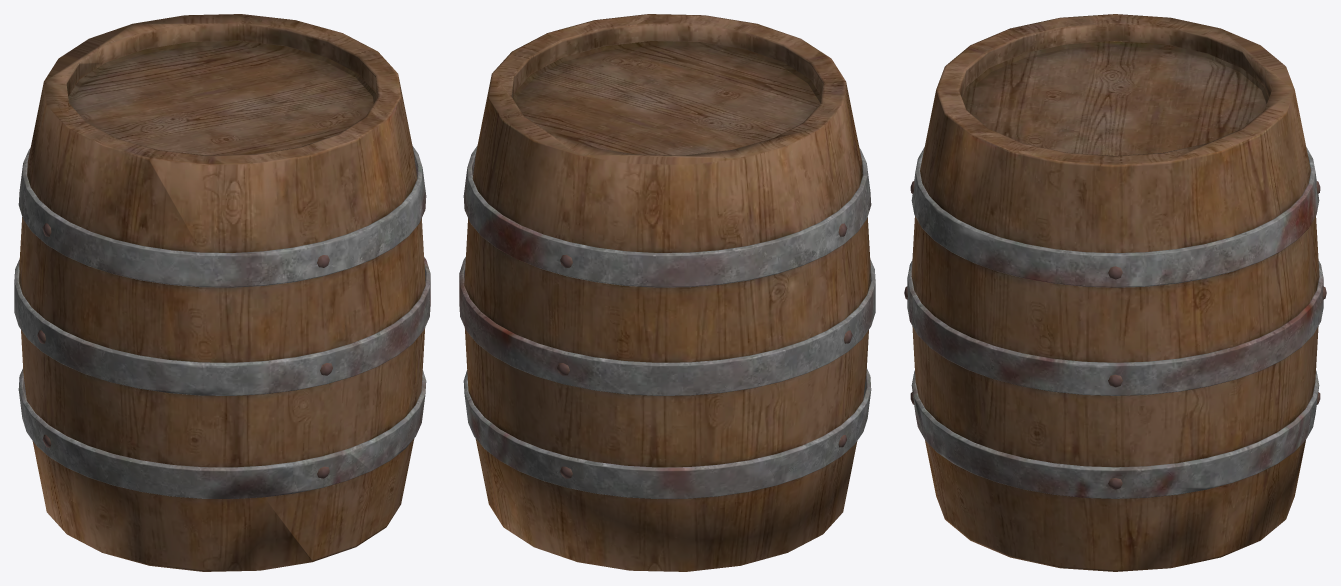
File: barrel_roll.glb
3 views of the same model, side by side, from view 1: azimuth 30°, elevation 25°; view 2: azimuth 150°, elevation 25°; view 3: azimuth 270°, elevation 25° (orthographic).
Parts seen in each view (by area): view 1: Bolt_low_lambert1_0; view 2: Bolt_low_lambert1_0; view 3: Bolt_low_lambert1_0.
Part boxes in pixels (x1,y1,x2,y2): Bolt_low_lambert1_0: (14, 14, 430, 571); Bolt_low_lambert1_0: (459, 14, 875, 571); Bolt_low_lambert1_0: (904, 14, 1326, 571).
Bounding box in the file's own units: 94.23 × 100 × 94.23.
Materials: 1 (1 with a texture image).
